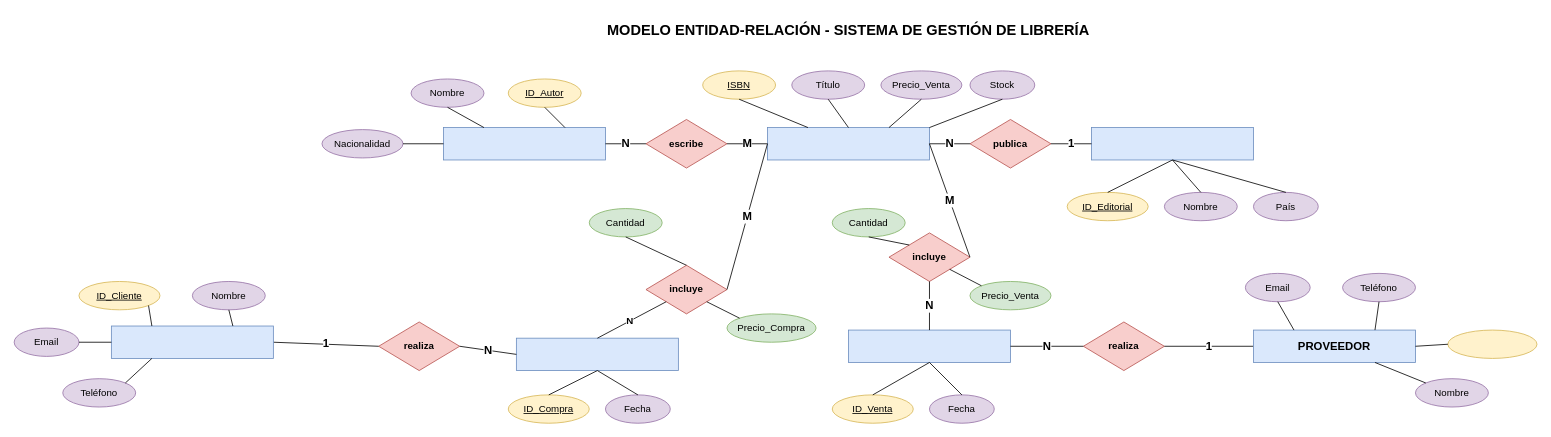
This 1551x437 diagram has some shape labels left out. Each missing label, with the centre of its shape:
AUTOR: (524,143)
CLIENTE: (192,341)
COMPRA: (597,354)
EDITORIAL: (1172,143)
ID_Proveedor: (1492,343)
LIBRO: (848,143)
VENTA: (929,345)
